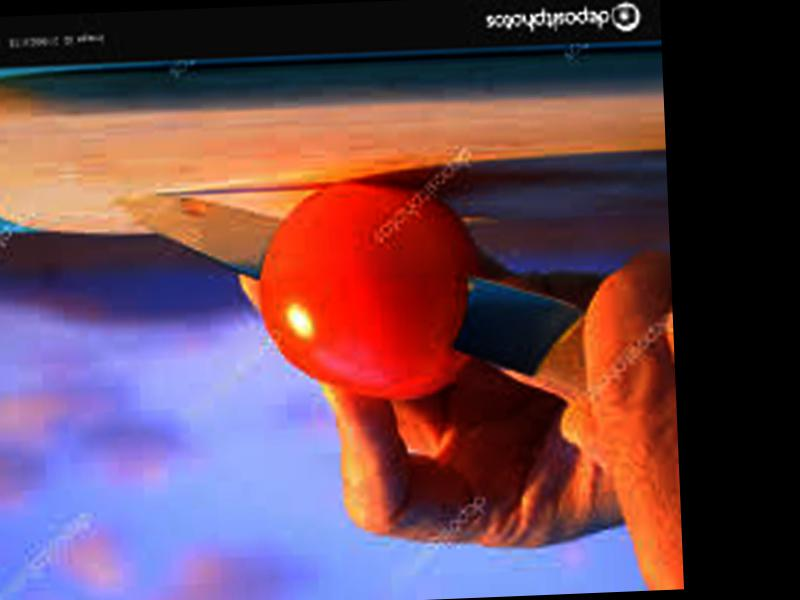Tomato: (252, 172, 486, 401)
